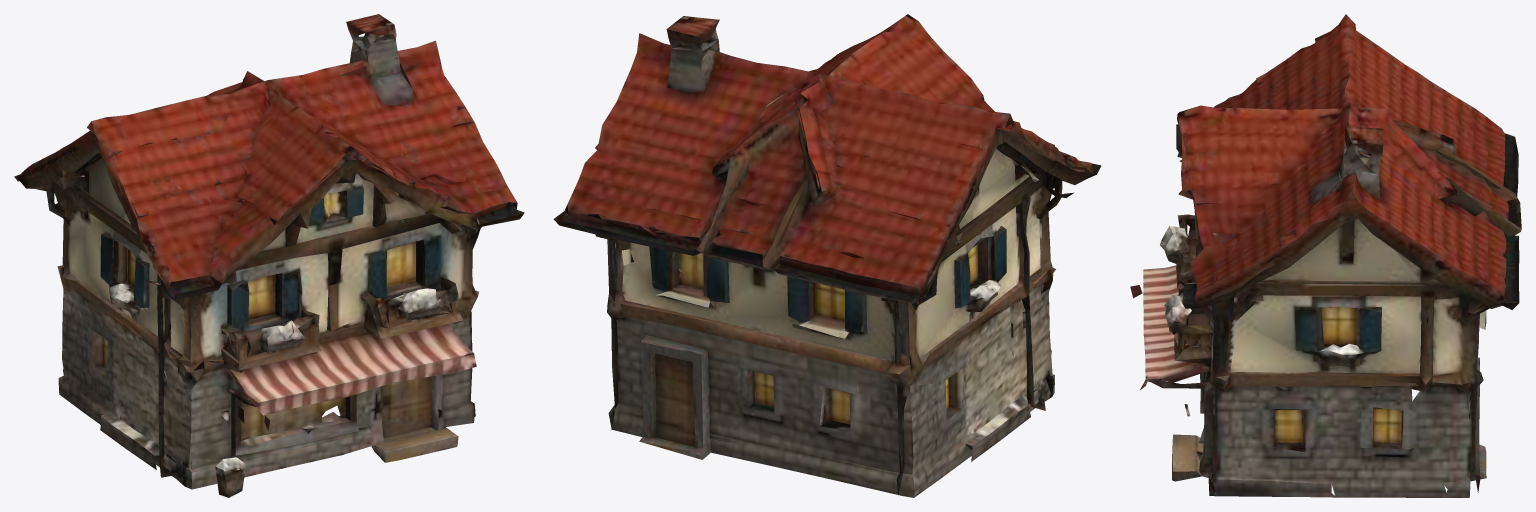
3 renders of one model, left to right at view 1: azimuth 30°, elevation 25°; view 2: azimuth 150°, elevation 25°; view 3: azimuth 270°, elevation 25°, orthographic. The views are drawn at different scales.
Parts seen in each view (by area): view 1: alpine__shop_2__neural_lod; view 2: alpine__shop_2__neural_lod; view 3: alpine__shop_2__neural_lod.
Part boxes in pixels (left/top/right/bottom): alpine__shop_2__neural_lod: left=14, top=14, right=524, bottom=497; alpine__shop_2__neural_lod: left=553, top=14, right=1101, bottom=497; alpine__shop_2__neural_lod: left=1130, top=14, right=1521, bottom=497.
Size of the model in its own units: 0.9753 by 0.9253 by 0.9329.
1 material, 1 textured.
